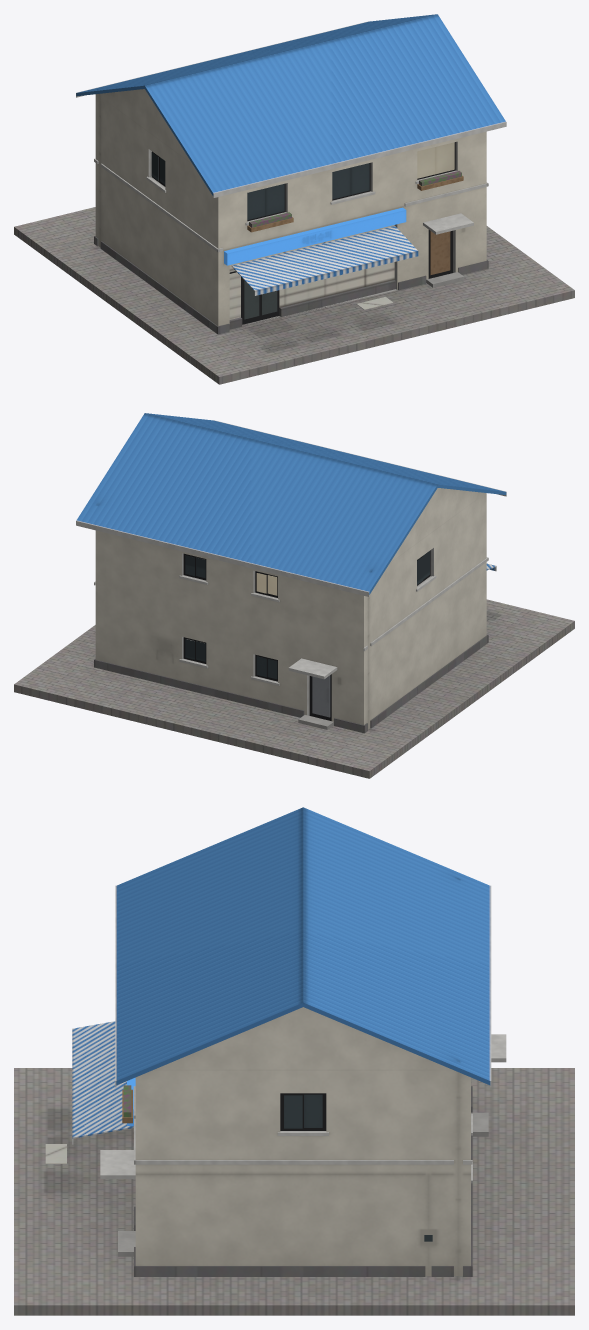
File: IlsanBlueRoof01_LOD2.fbx
3 views of the same model, one above another, from view 1: azimuth 30°, elevation 25°; view 2: azimuth 150°, elevation 25°; view 3: azimuth 270°, elevation 25° (orthographic). The views are drawn at different scales.
Visible parts, largest first — view 1: IlsanBlueRoof01_LOD2; view 2: IlsanBlueRoof01_LOD2; view 3: IlsanBlueRoof01_LOD2.
Boxes of the visible parts, x1,y1,x2,y2 form: IlsanBlueRoof01_LOD2: (14, 14, 574, 384); IlsanBlueRoof01_LOD2: (14, 413, 574, 778); IlsanBlueRoof01_LOD2: (14, 807, 574, 1315).
Size of the model in its own units: 15.9 by 9.14 by 15.9.
1 material, 1 textured.
